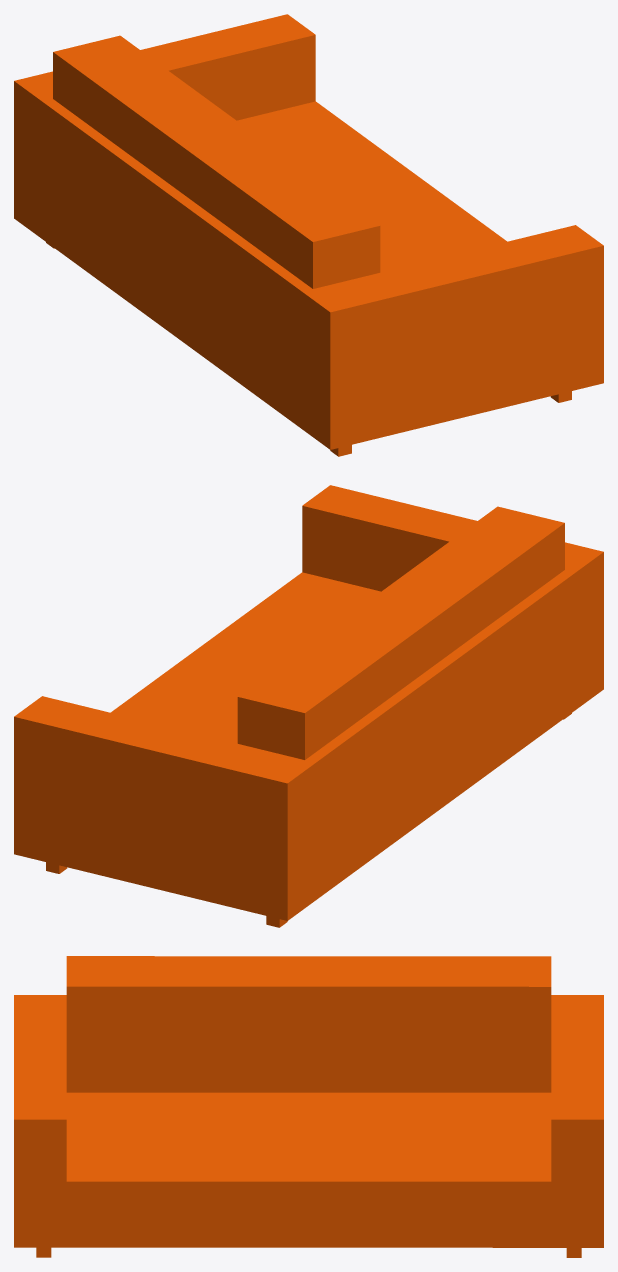
Rendered from sofa.fbx.
3 views of the same model, one above another, from view 1: azimuth 30°, elevation 25°; view 2: azimuth 150°, elevation 25°; view 3: azimuth 270°, elevation 25° (orthographic). The views are drawn at different scales.
Parts seen in each view (by area): view 1: bryła; view 2: bryła; view 3: bryła.
Part boxes in pixels (bbox=[...]): bryła: bbox=[14, 14, 603, 449]; bryła: bbox=[14, 485, 603, 920]; bryła: bbox=[14, 956, 603, 1247].
Size of the model in its own units: 212 by 152 by 425.
